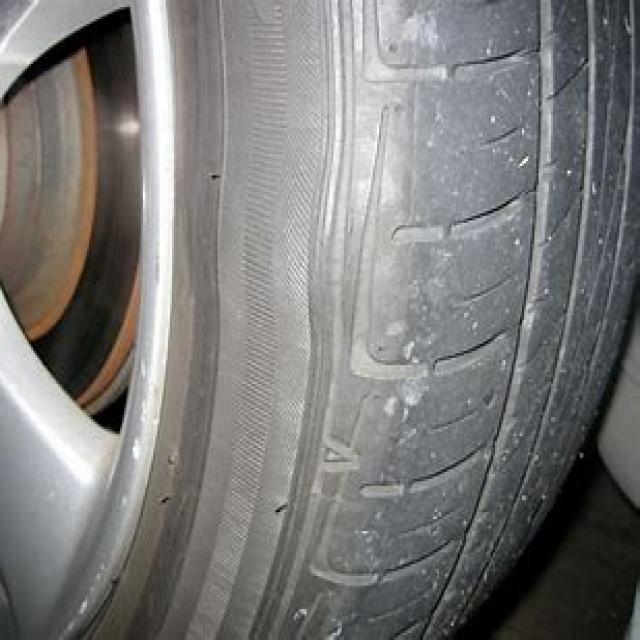Bulge: (176, 144, 383, 352)
